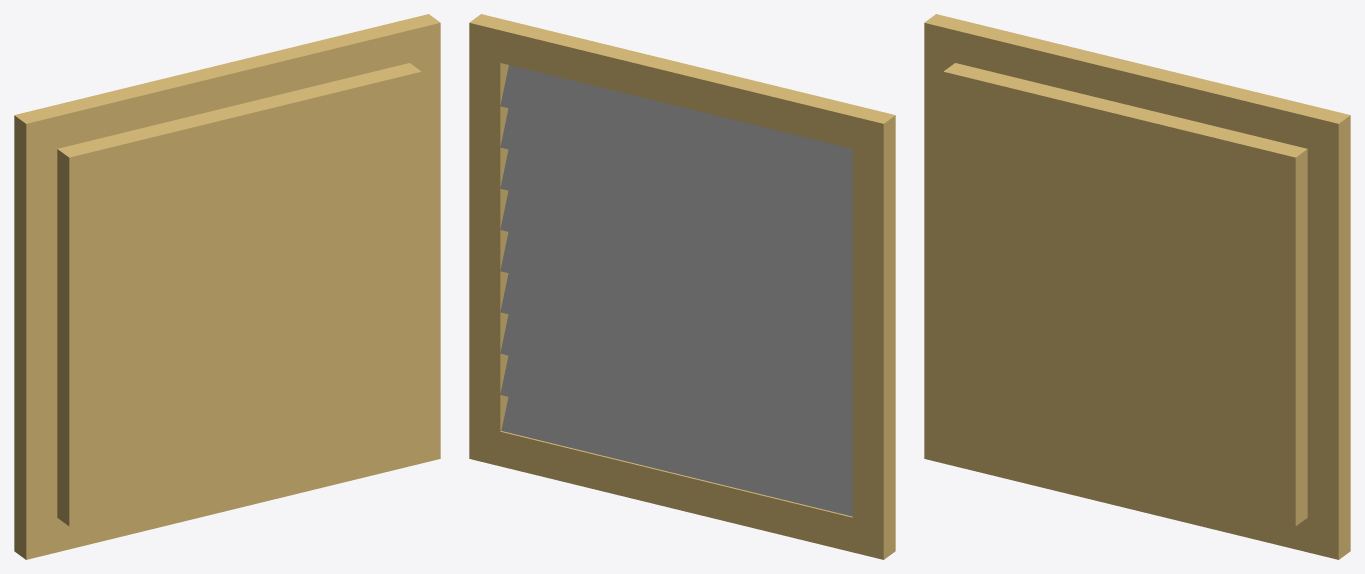
The model's file is Industrial_New_Wall_Panel_Slats.fbx.
The picture shows the model from 3 angles, left to right: view 1: azimuth 30°, elevation 25°; view 2: azimuth 150°, elevation 25°; view 3: azimuth 330°, elevation 25°; orthographic projection.
Parts seen in each view (by area): view 1: Cube.001; view 2: Cube.001; view 3: Cube.001.
Boxes of the visible parts, left/top/right/bottom form: Cube.001: left=14, top=14, right=440, bottom=559; Cube.001: left=469, top=14, right=895, bottom=559; Cube.001: left=924, top=14, right=1350, bottom=559.
Bounding box in the file's own units: 200 × 201 × 20.
